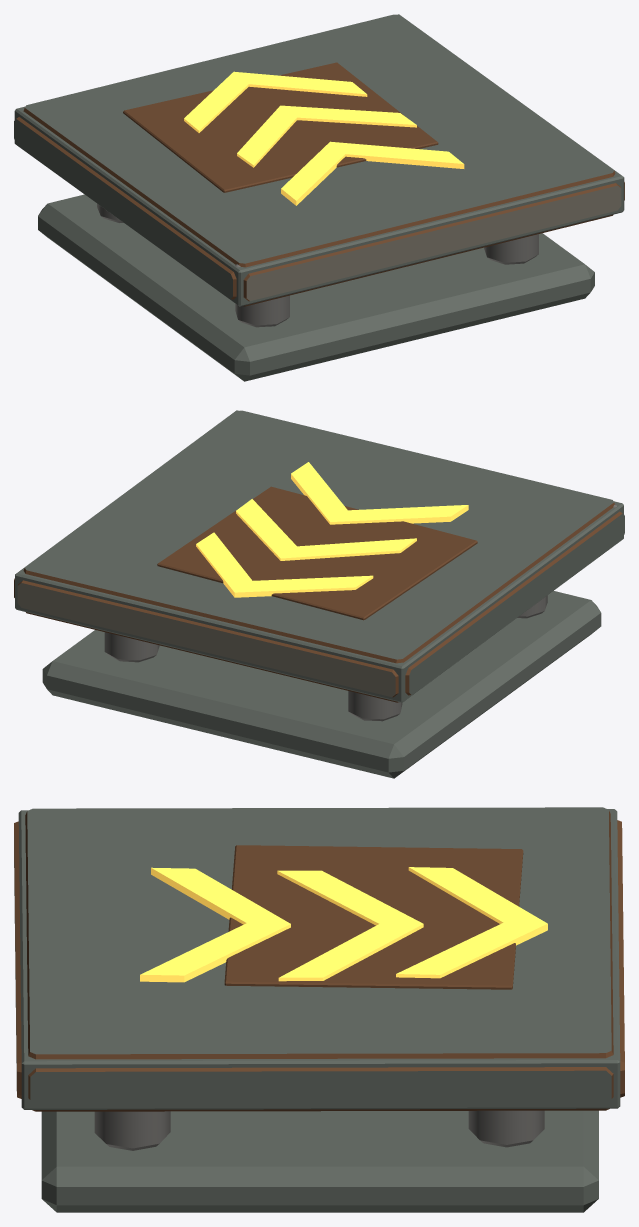
File: R4D_KnockbackTrap.fbx
The picture shows the model from 3 angles, top to bottom: view 1: azimuth 30°, elevation 25°; view 2: azimuth 150°, elevation 25°; view 3: azimuth 270°, elevation 25°; orthographic projection. The views are drawn at different scales.
Visible parts, largest first — view 1: R4D_KnockbackTrap_Plate, R4D_KnockbackTrap_Body; view 2: R4D_KnockbackTrap_Plate, R4D_KnockbackTrap_Body; view 3: R4D_KnockbackTrap_Plate, R4D_KnockbackTrap_Body.
Boxes of the visible parts, x1,y1,x2,y2 form: R4D_KnockbackTrap_Plate: (14, 14, 624, 306); R4D_KnockbackTrap_Body: (38, 194, 594, 381); R4D_KnockbackTrap_Plate: (14, 410, 624, 702); R4D_KnockbackTrap_Body: (42, 591, 601, 778); R4D_KnockbackTrap_Plate: (14, 807, 624, 1111); R4D_KnockbackTrap_Body: (41, 1110, 598, 1212).
Bounding box in the file's own units: 0.4823 × 0.156 × 0.4823.
